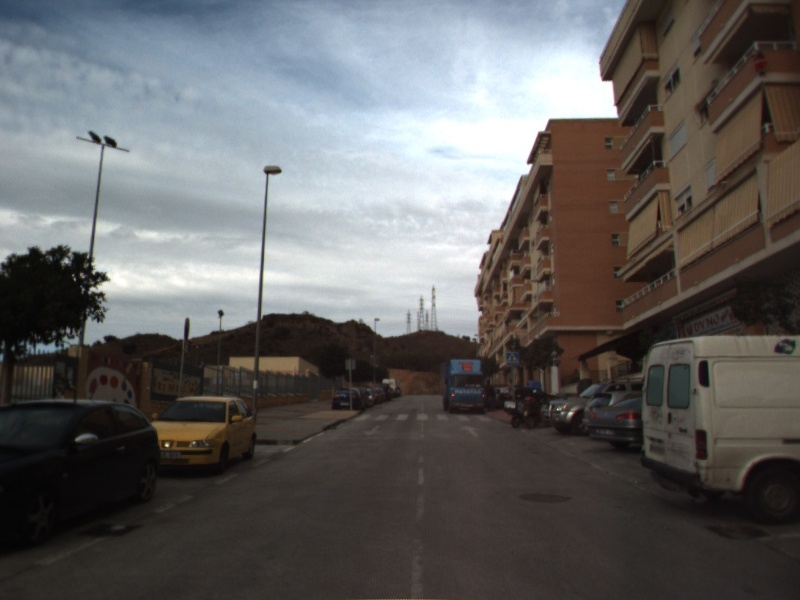STRAIGHT: (458, 422, 482, 439)
